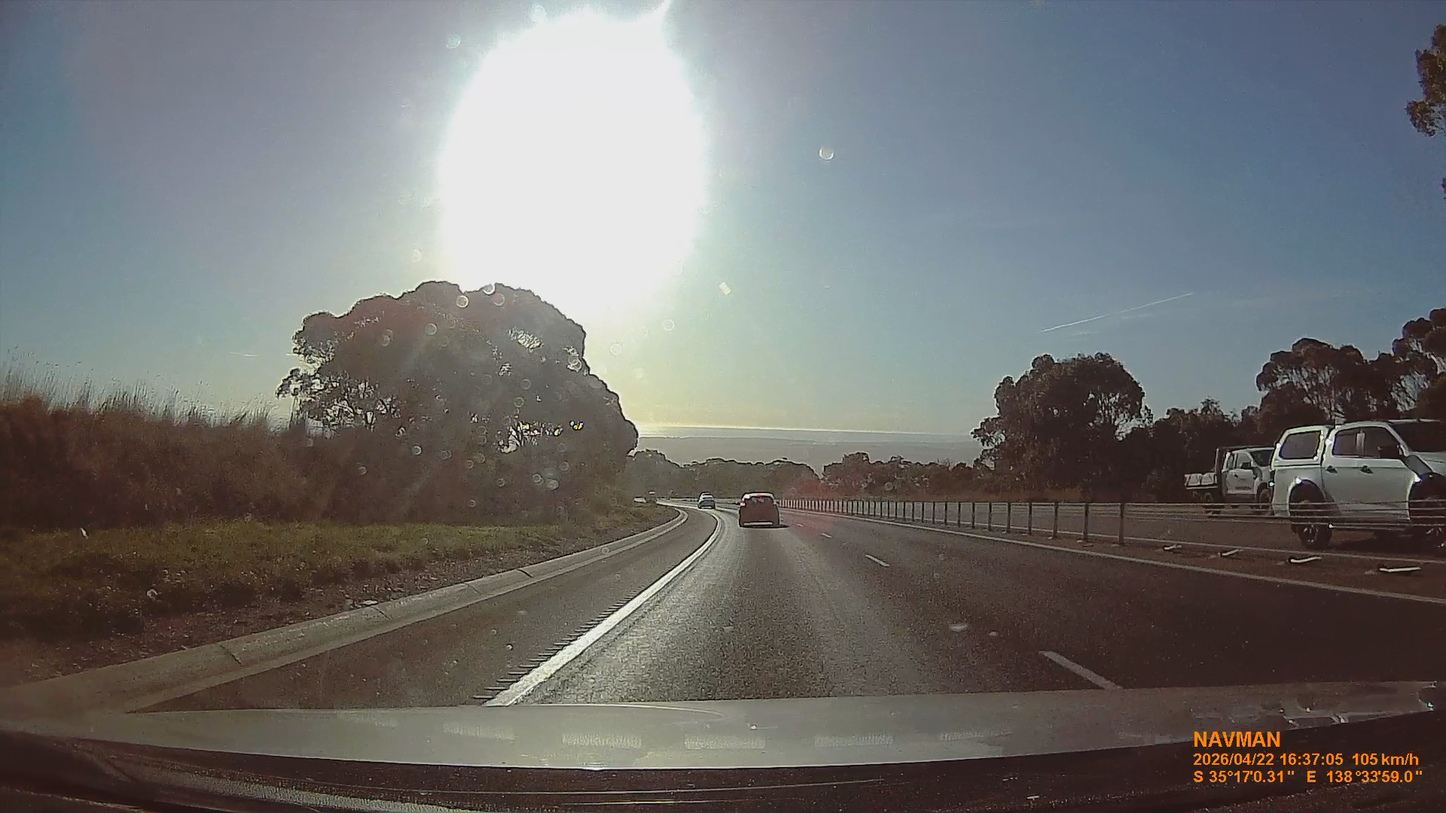road barriers: (788, 498, 1445, 568), (776, 498, 874, 516)
